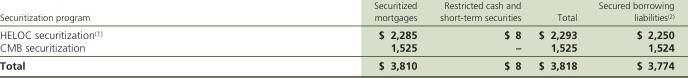column: (1, 1, 102, 78), (439, 1, 522, 78), (598, 1, 675, 78), (374, 1, 418, 78), (550, 1, 578, 78), (538, 1, 544, 78)
row: (1, 59, 688, 72), (1, 29, 688, 41), (1, 42, 688, 54), (1, 13, 688, 24), (1, 1, 688, 11)
